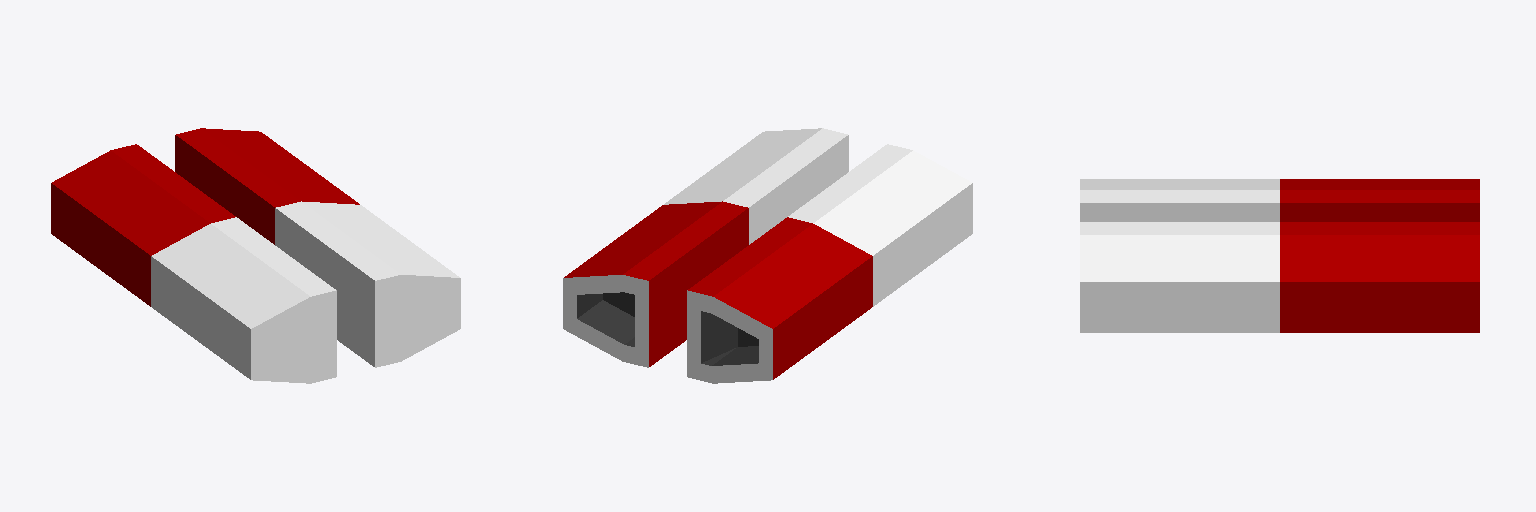
Rendered from enemyRangeRadiusUnitTop.obj.
3 renders of one model, left to right at view 1: azimuth 30°, elevation 25°; view 2: azimuth 150°, elevation 25°; view 3: azimuth 270°, elevation 25°, orthographic.
Size of the model in its own units: 0.545 by 0.216 by 0.9.